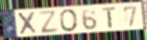6: (81, 8, 98, 31)
7: (122, 5, 138, 28)
O: (58, 8, 79, 33)
T: (101, 6, 117, 29)
X: (16, 11, 39, 35)
Z: (37, 10, 60, 34)
